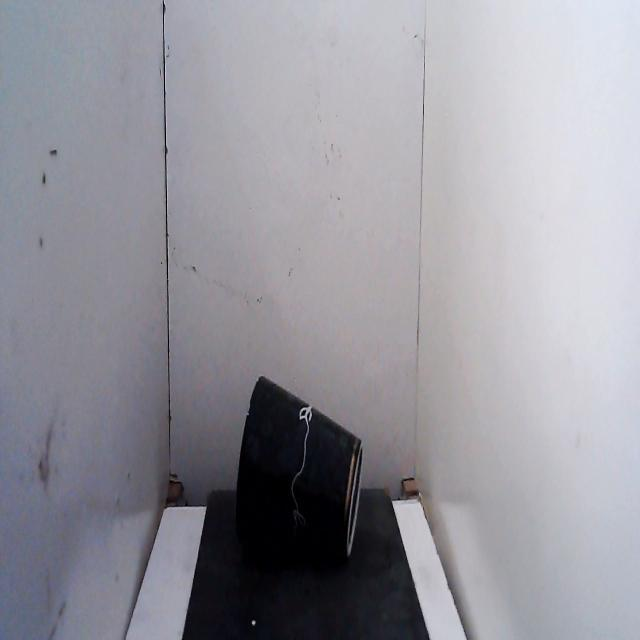glass: (228, 363, 370, 574)
